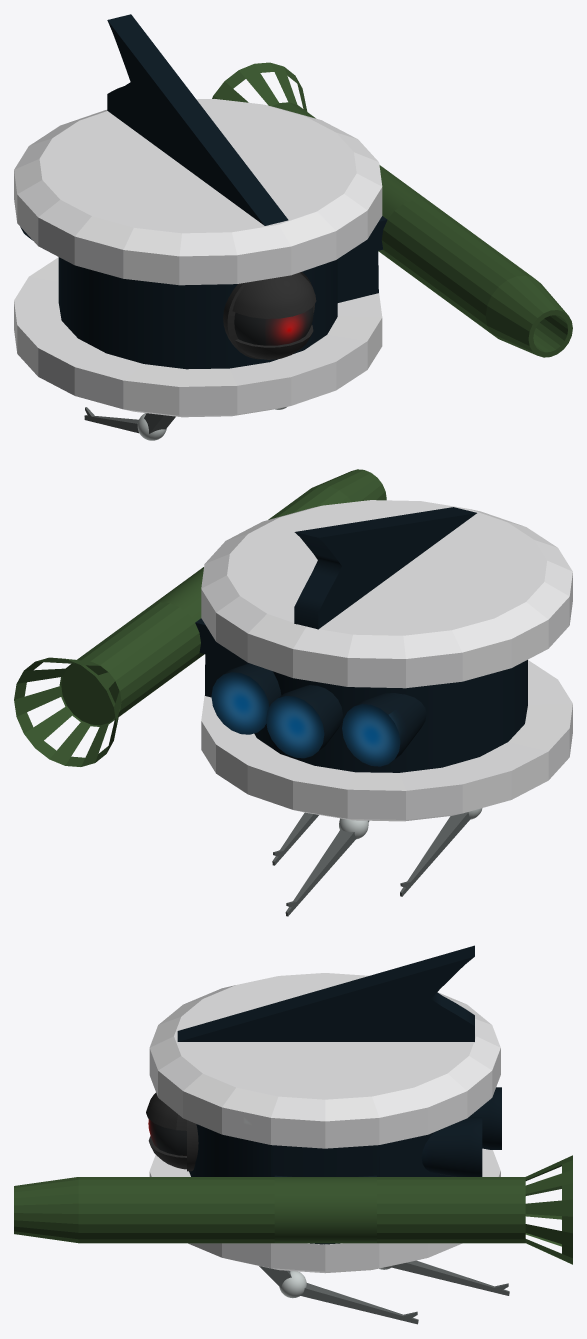
File: drone model.fbx
3 renders of one model, top to bottom at view 1: azimuth 30°, elevation 25°; view 2: azimuth 150°, elevation 25°; view 3: azimuth 270°, elevation 25°, orthographic. The views are drawn at different scales.
Parts seen in each view (by area): view 1: pCube10; view 2: pCube10; view 3: pCube10.
Part boxes in pixels (x1,y1,x2,y2): pCube10: [14, 14, 572, 440]; pCube10: [14, 469, 572, 916]; pCube10: [14, 945, 572, 1324].
Size of the model in its own units: 78.05 by 68.34 by 101.
1 material, 1 textured.
